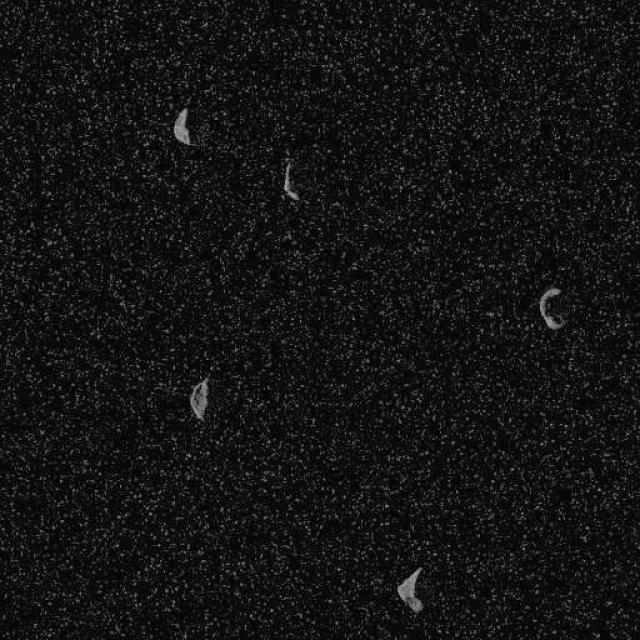D2: (395, 566, 424, 614), (538, 286, 566, 330), (188, 376, 210, 420), (280, 158, 300, 202), (171, 106, 191, 145)
